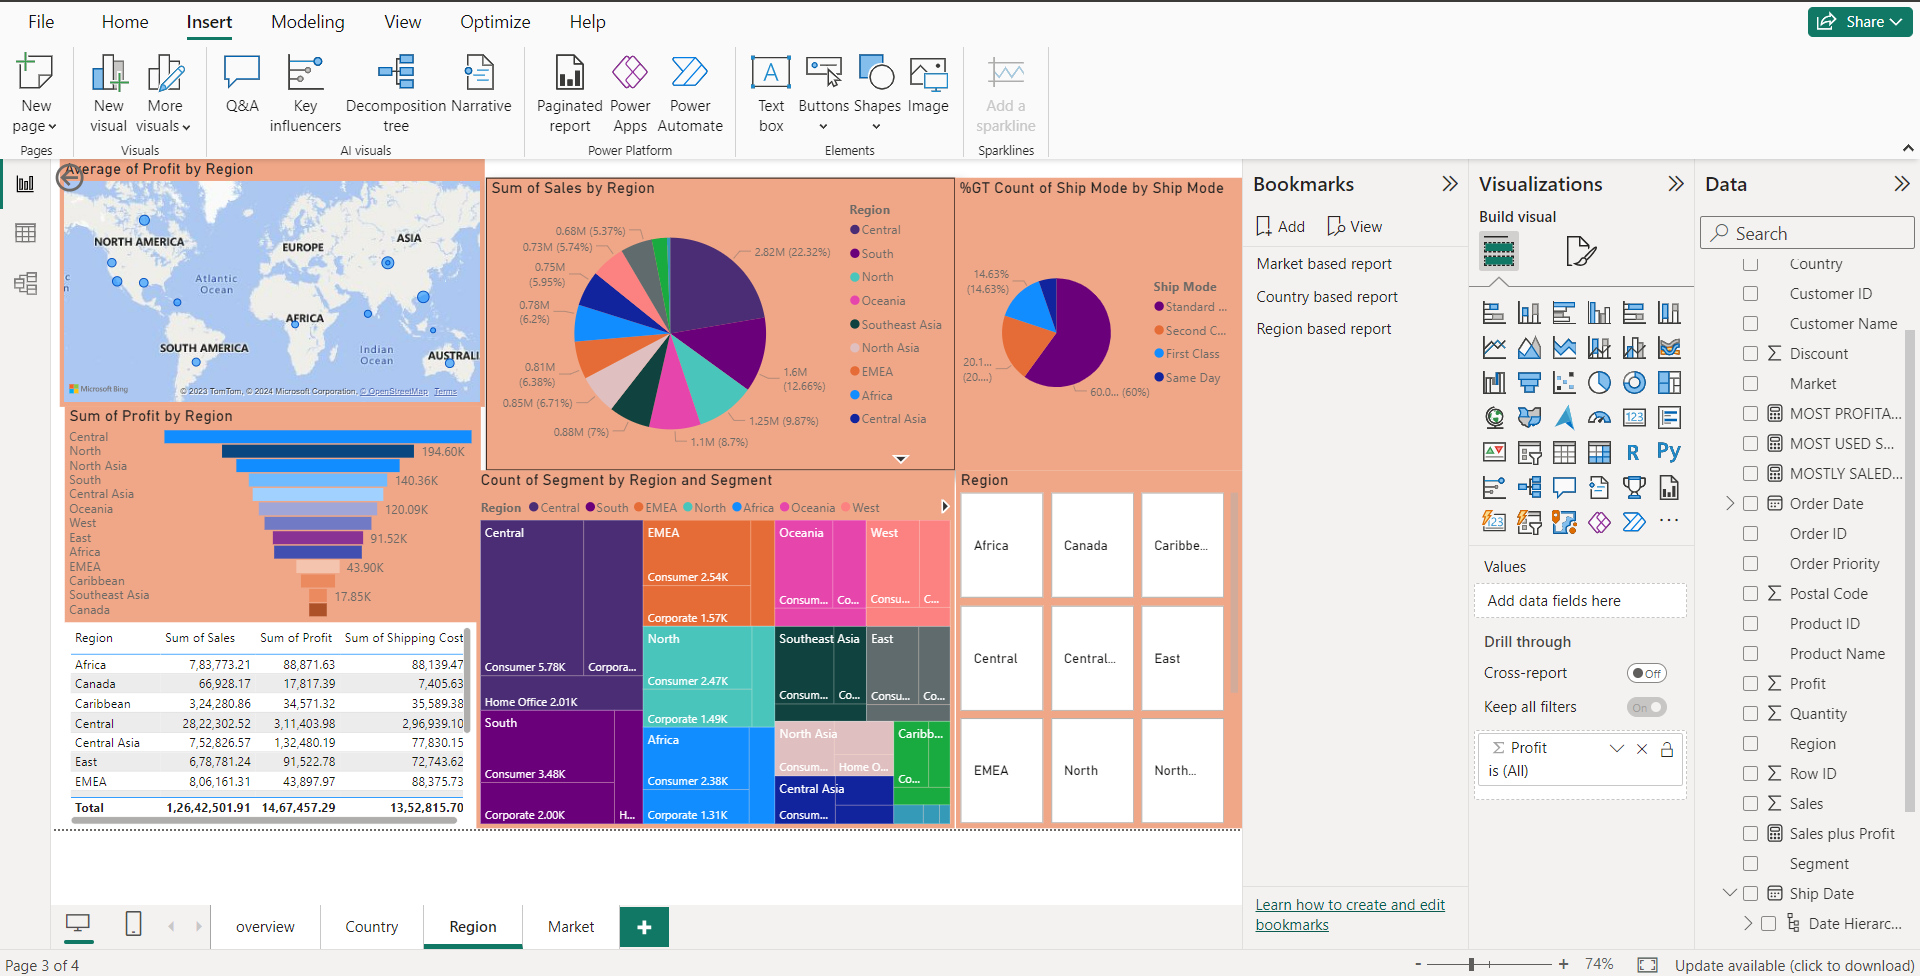

Layout of this report page (visuals, bound fields, positions):
{"tool":"powerbi","page":{"name":"Region","canvas":[1280,720],"ordinal":2},"visuals":[{"type":"map","fields":{"Category":["Orders.Region"],"Size":["Avg(Orders.Profit)"]},"box":[9.8,0,457.2,266.5],"z":0},{"type":"pieChart","fields":{"Category":["Orders.Region"],"Y":["Sum(Orders.Sales)"]},"box":[467.5,20.2,503.8,314.4],"z":1000},{"type":"funnel","fields":{"Category":["Orders.Region"],"Y":["Sum(Orders.Profit)"]},"box":[14.7,266.5,447.4,232.3],"z":2000},{"type":"treemap","fields":{"Group":["Orders.Region"],"Values":["CountNonNull(Orders.Segment)"],"Details":["Orders.Segment"]},"box":[457.2,334.9,514.6,385.1],"z":3000},{"type":"pieChart","fields":{"Category":["Orders.Ship Mode"],"Y":["CountNonNull(Orders.Ship Mode)"]},"box":[971.3,20.2,309,314.4],"z":4000},{"type":"tableEx","fields":{"Values":["Orders.Region","Sum(Orders.Sales)","Sum(Orders.Profit)","Sum(Orders.Shipping Cost)"]},"box":[15,498,442,222],"z":5000},{"type":"actionButton","box":[0,0,100,40],"z":6000},{"type":"advancedSlicerVisual","fields":{"Values":["Orders.Region"]},"box":[972,335,308,385],"z":7000}]}

Visuals, with their boxes on the page's 1280x720 design canvas (x1, y1, x2, y2). These are canvas units, not pixel positions in the 1920x976 screenshot, which may show the page scaled, cropped or inside an application window:
map - Orders.Region x Avg(Orders.Profit): x1=10, y1=0, x2=467, y2=266
pieChart - Orders.Region x Sum(Orders.Sales): x1=468, y1=20, x2=971, y2=335
funnel - Orders.Region x Sum(Orders.Profit): x1=15, y1=266, x2=462, y2=499
treemap - Orders.Region x CountNonNull(Orders.Segment): x1=457, y1=335, x2=972, y2=720
pieChart - Orders.Ship Mode x CountNonNull(Orders.Ship Mode): x1=971, y1=20, x2=1280, y2=335
tableEx - Orders.Region x Sum(Orders.Sales): x1=15, y1=498, x2=457, y2=720
actionButton: x1=0, y1=0, x2=100, y2=40
advancedSlicerVisual - Orders.Region: x1=972, y1=335, x2=1280, y2=720
